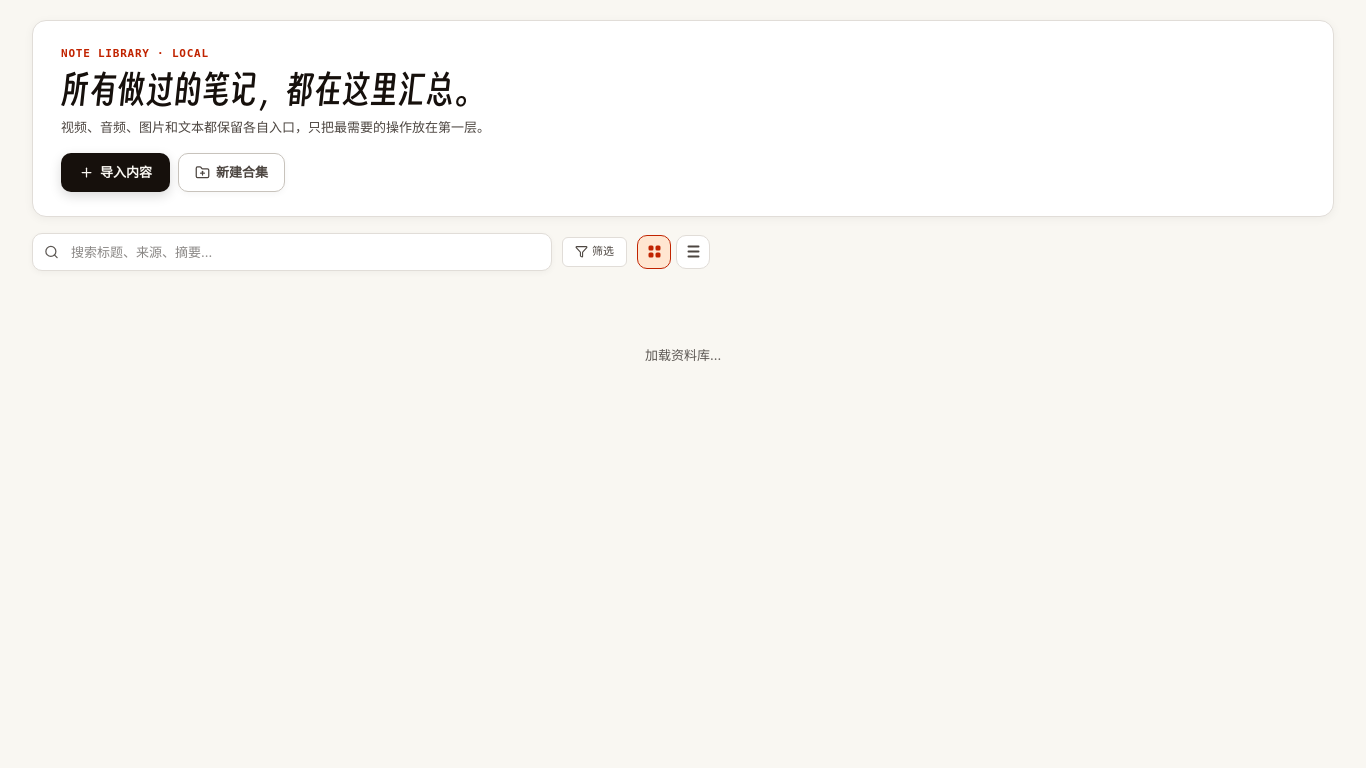
Test: LibraryPage R4-A layout › 工具栏包含筛选、搜索和排序
Expected: the heading "所有做过的笔记，都在这里汇总。" is shown, [61,69,482,111]
Expected: the element with class "lib-toolbar" is shown, [32,233,710,271]
Click the button "筛选" at (594, 252), box [562,237,627,267]
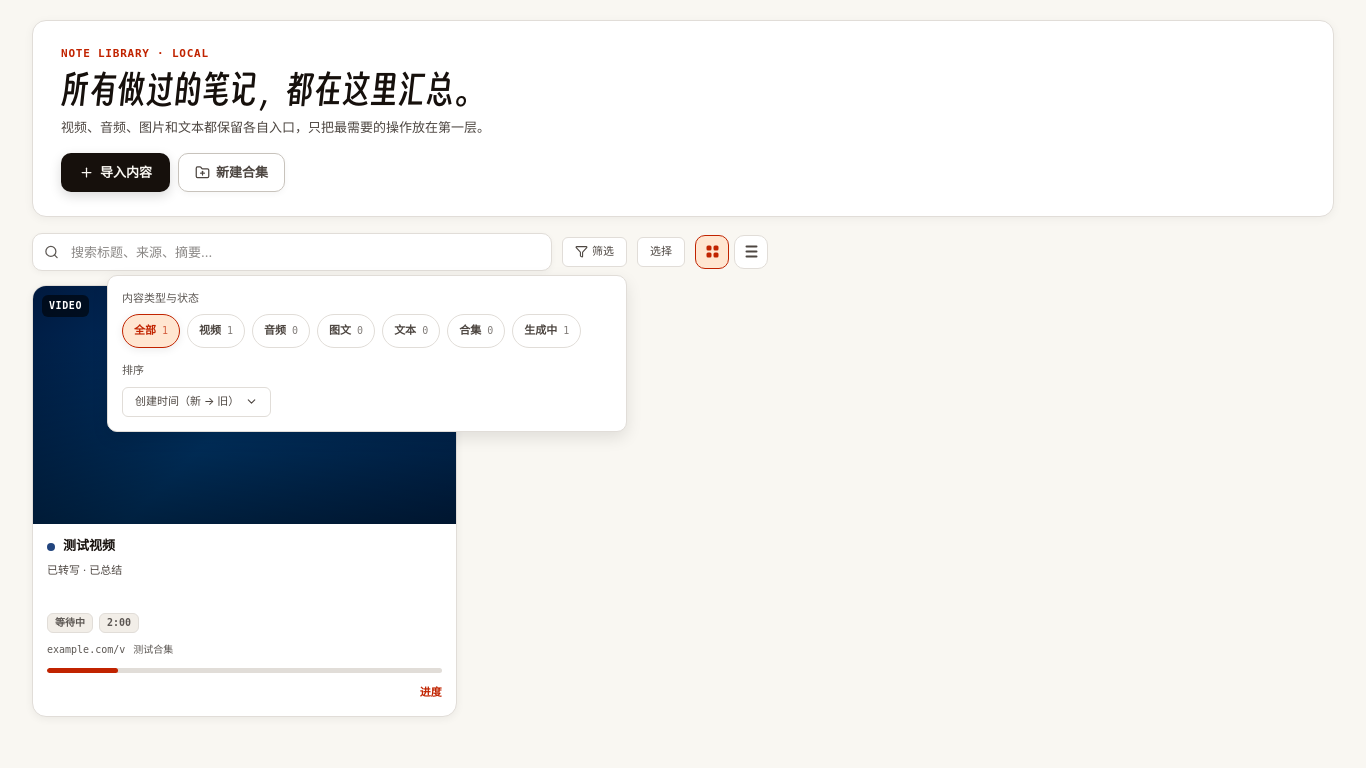
Expected: the button "视频 1" is shown, [187,314,245,348]
